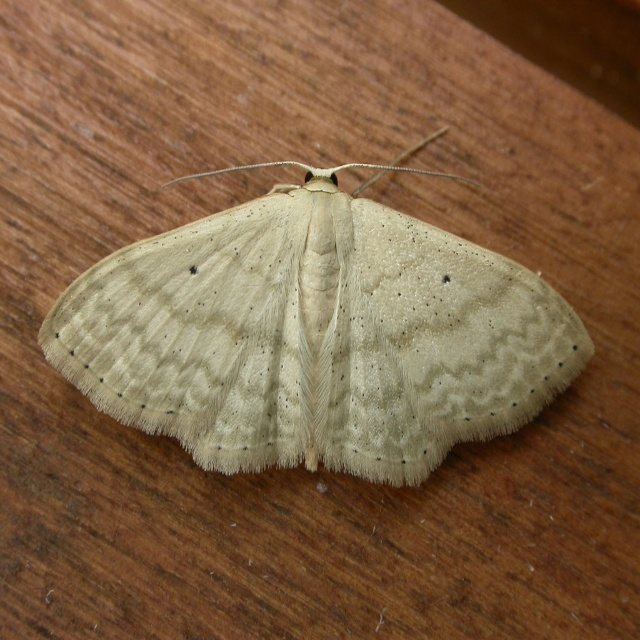Moths and butterflies: (34, 125, 596, 497)
